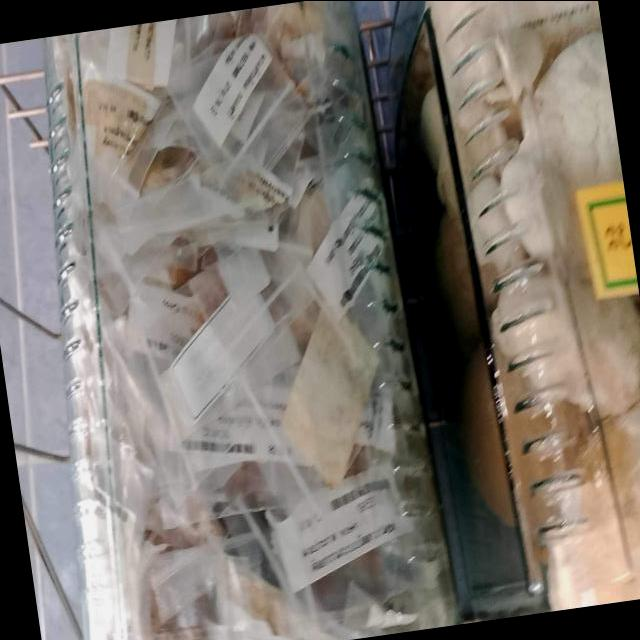Pathological: (41, 5, 448, 636)
Sharps: (425, 2, 637, 595)
